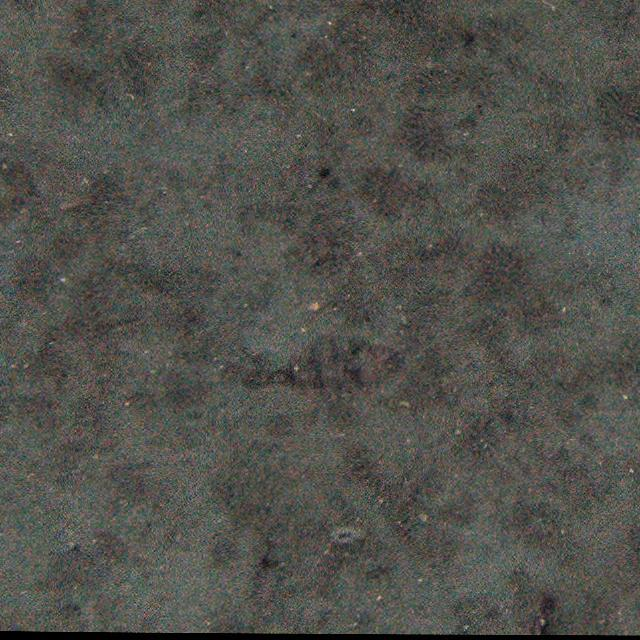flatfish: (242, 330, 412, 407)
